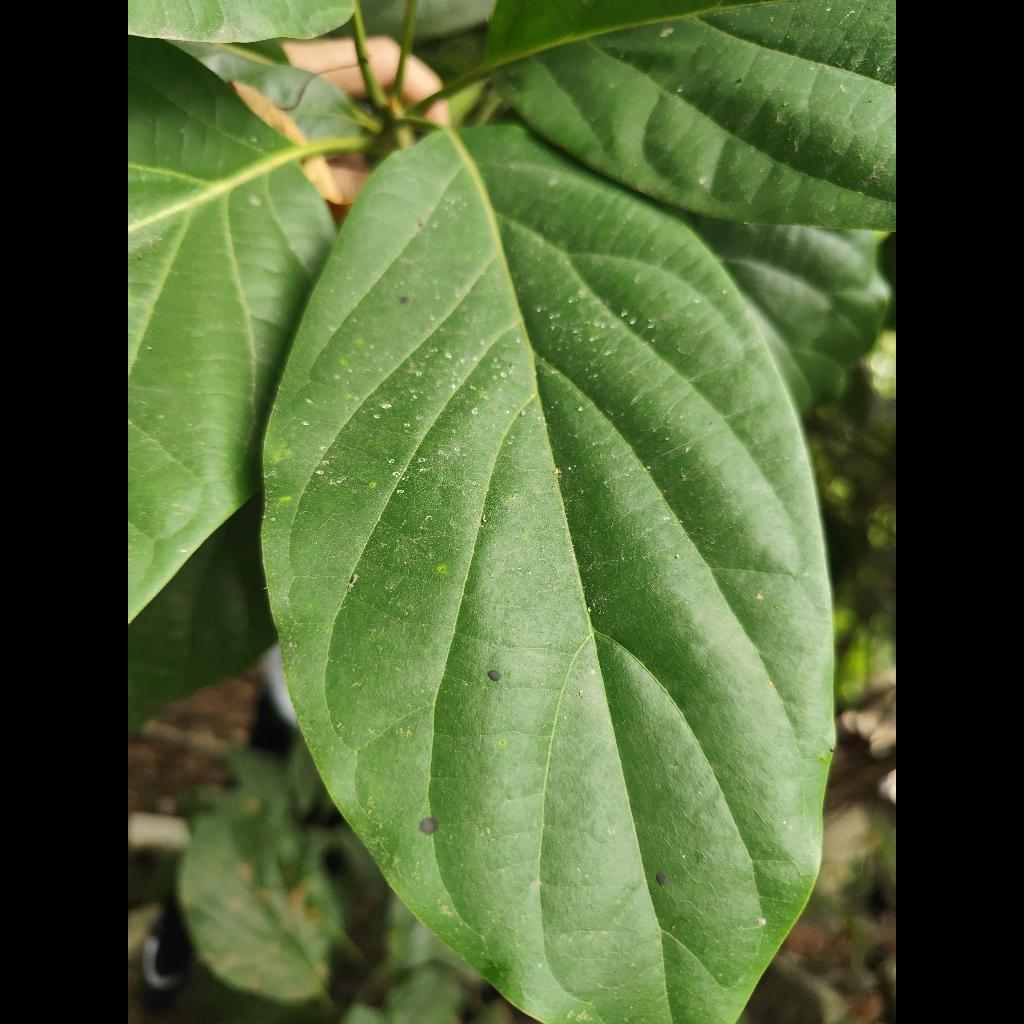Anthracnose: (264, 126, 831, 1024)
